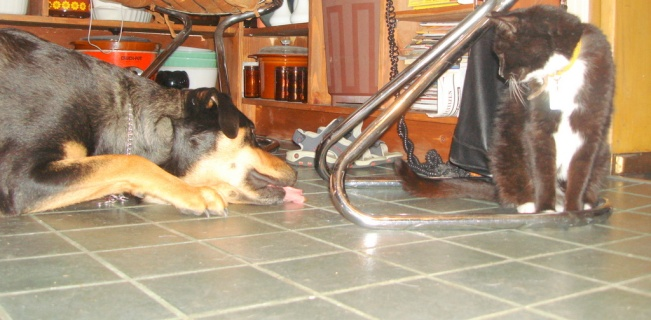Cat: (481, 0, 624, 223)
